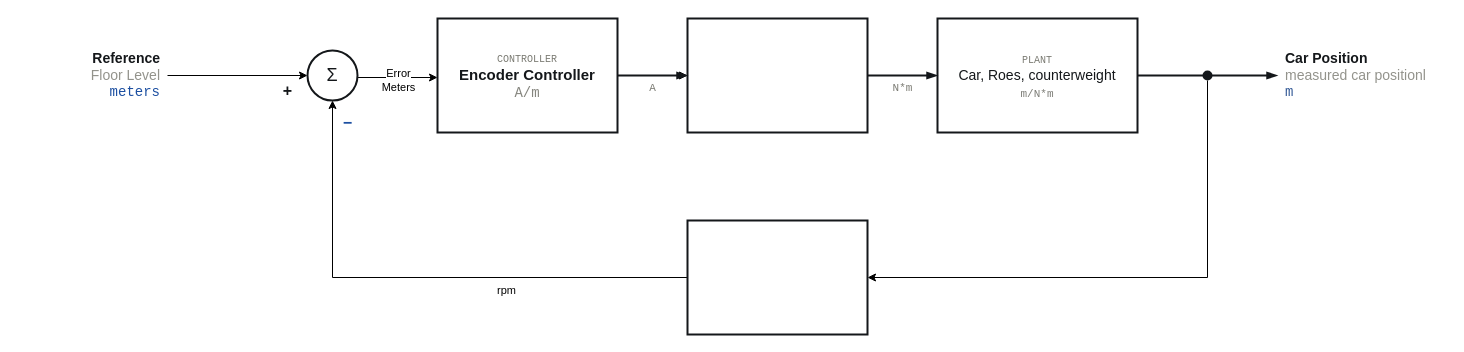
The diagram is 1464 pixels wide and 352 high, and some of its shapes have lost their labels. The box of each missing label's shape, as (x1, y1, x2, y2) in pixels:
ACTUATOR Drive Train N*m/A: (686, 17, 868, 133)
Coarse Sensor Encoder Length meters: (686, 219, 868, 335)
